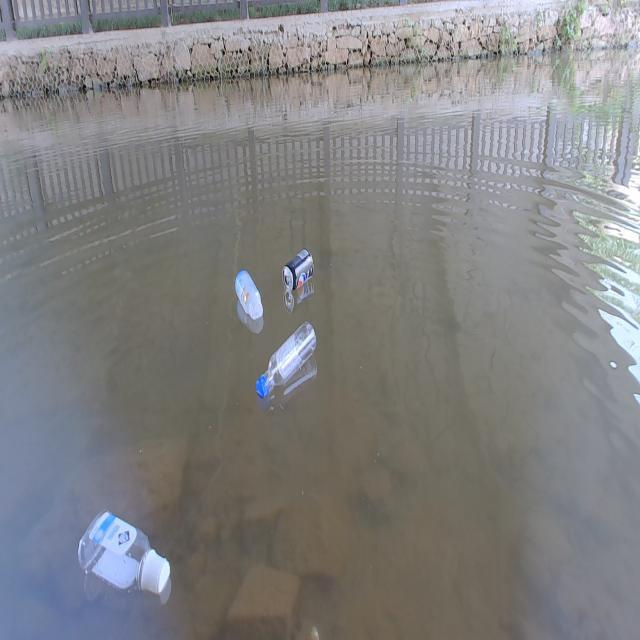garbage: (77, 508, 171, 604), (255, 321, 317, 399), (234, 268, 264, 322), (281, 247, 313, 291)
